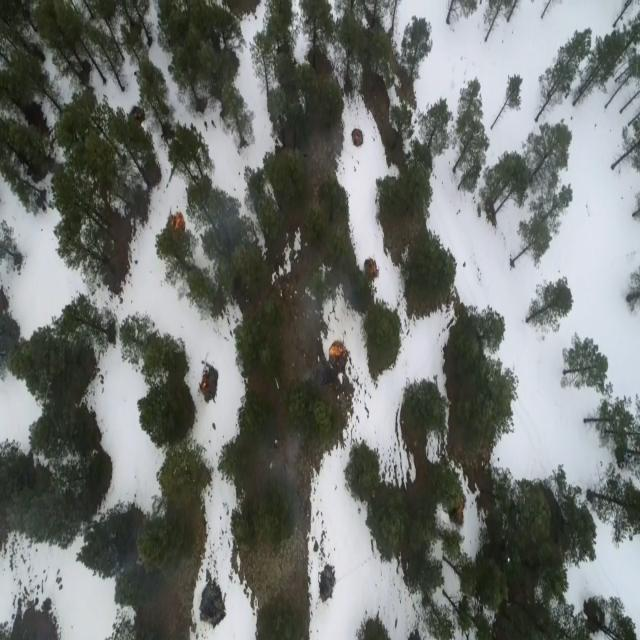Fire: (329, 337, 351, 375), (164, 210, 190, 240), (197, 373, 210, 391)
